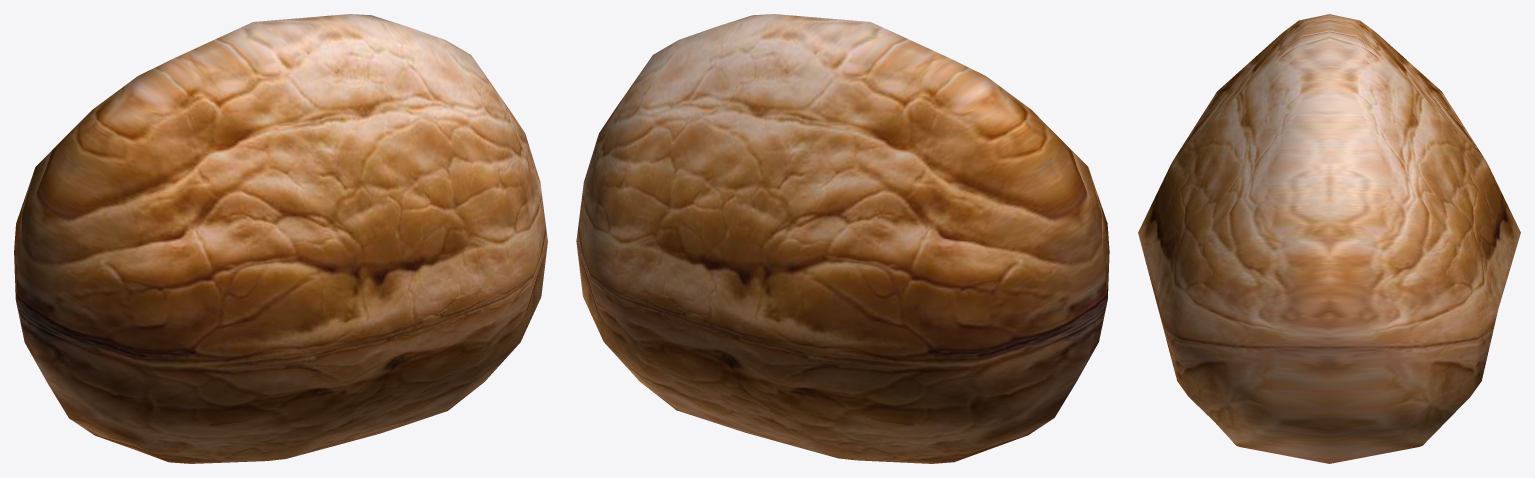
The model's file is walnoot.fbx.
3 views of the same model, side by side, from view 1: azimuth 30°, elevation 25°; view 2: azimuth 150°, elevation 25°; view 3: azimuth 270°, elevation 25° (orthographic). The views are drawn at different scales.
Visible parts, largest first — view 1: pCube1; view 2: pCube1; view 3: pCube1.
Boxes of the visible parts, <box> form: pCube1: <box>14,14,547,463</box>; pCube1: <box>576,14,1109,463</box>; pCube1: <box>1138,14,1520,463</box>.
Size of the model in its own units: 11.29 by 9.12 by 8.25.
